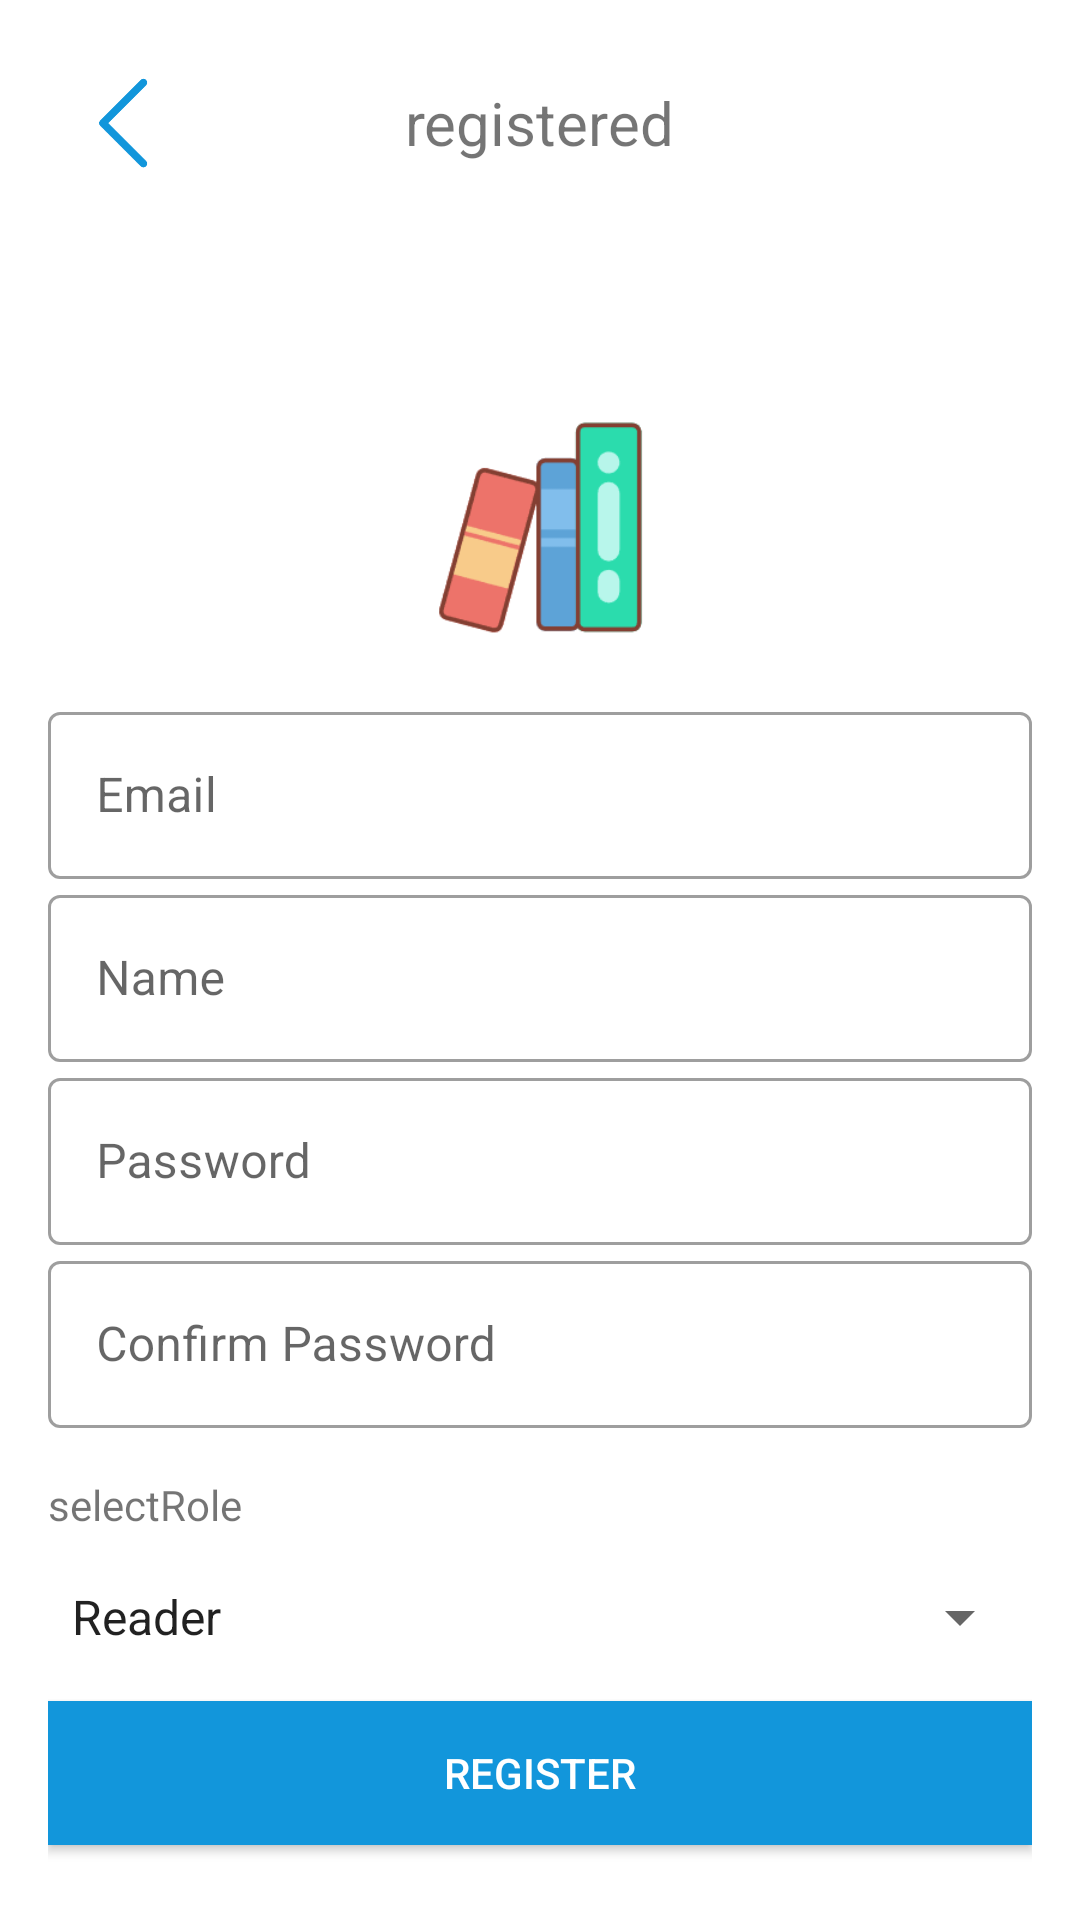

Where icons sit on this 1080 x 1920 app screen, as Rect(x1, y1, x2, y2):
back: Rect(99, 78, 147, 168)
